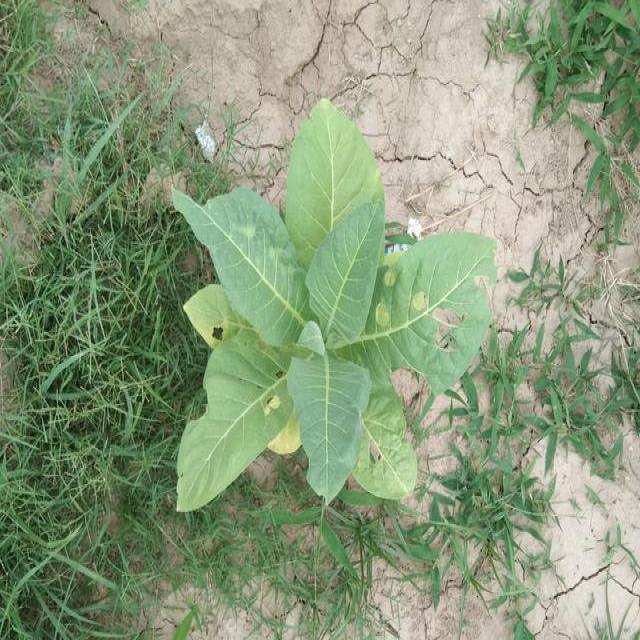crop: (160, 93, 497, 525)
